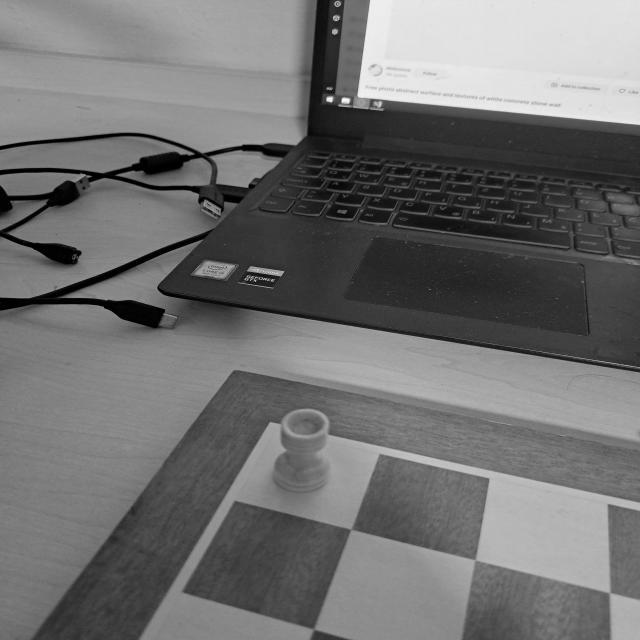chess-table-corners: (232, 406, 320, 456)
